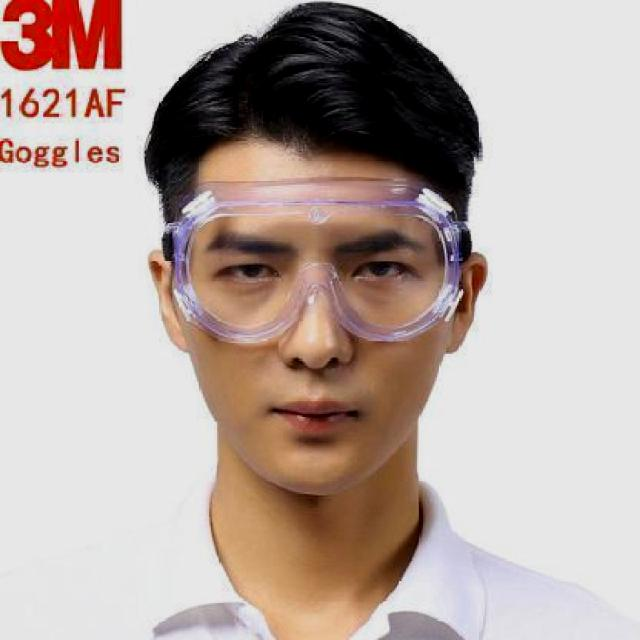face_nomask: (210, 240, 425, 458)
glasses: (160, 178, 472, 344)
head_nohelmet: (146, 8, 477, 180)
person: (0, 7, 631, 640)
